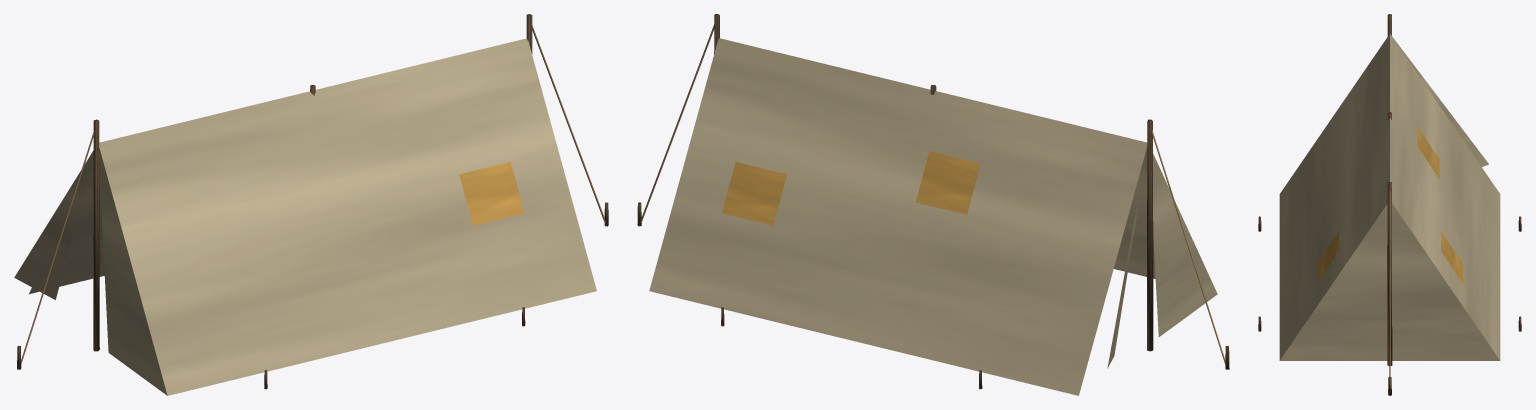
The model's file is Tent_Pilgrim_Long_1.gltf.
3 renders of one model, left to right at view 1: azimuth 30°, elevation 25°; view 2: azimuth 150°, elevation 25°; view 3: azimuth 270°, elevation 25°, orthographic. The views are drawn at different scales.
Parts seen in each view (by area): view 1: Tent_Pilgrim_Long_1; view 2: Tent_Pilgrim_Long_1; view 3: Tent_Pilgrim_Long_1.
Boxes of the visible parts, <box> form: Tent_Pilgrim_Long_1: <box>14,14,608,395</box>; Tent_Pilgrim_Long_1: <box>637,14,1229,395</box>; Tent_Pilgrim_Long_1: <box>1258,14,1521,395</box>.
Size of the model in its own units: 9.65 by 3.57 by 4.68.
Materials: 4 (4 with a texture image).
